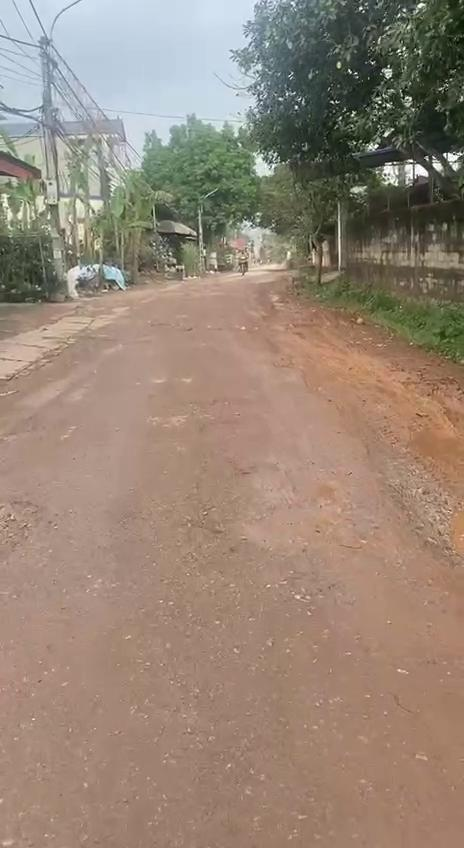pothole: (0, 484, 47, 554)
